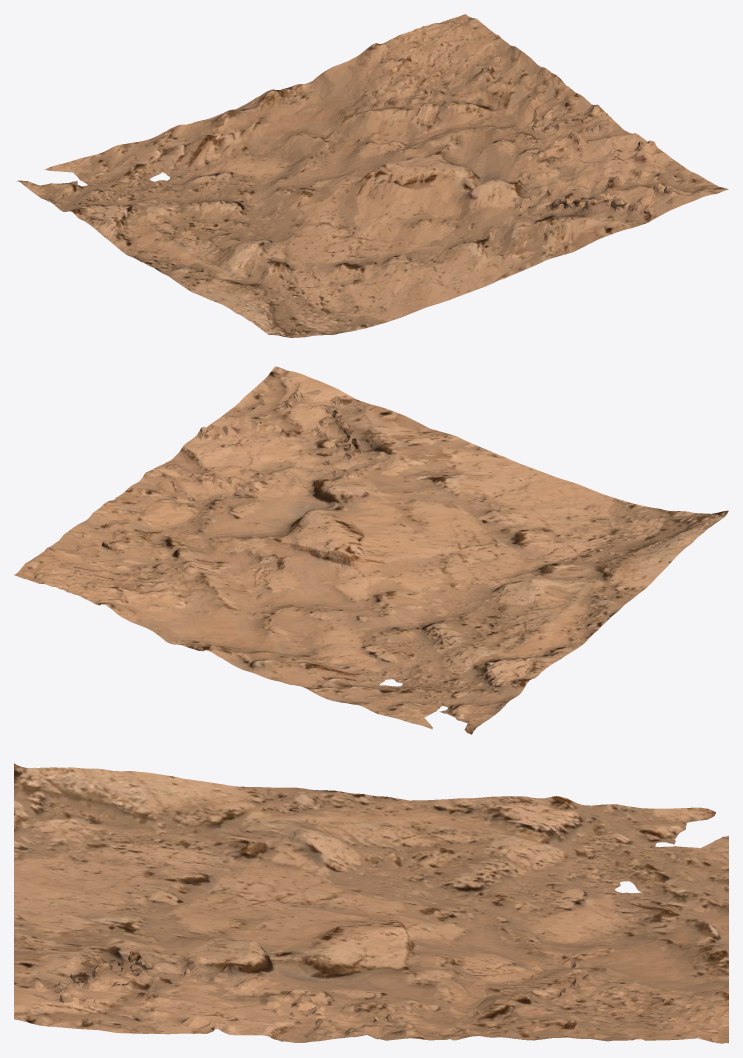
The picture shows the model from 3 angles, top to bottom: view 1: azimuth 30°, elevation 25°; view 2: azimuth 150°, elevation 25°; view 3: azimuth 270°, elevation 25°; orthographic projection. The views are drawn at different scales.
Bounding box in the file's own units: 4.18 × 0.6139 × 4.18.
Materials: 2 (2 with a texture image).
